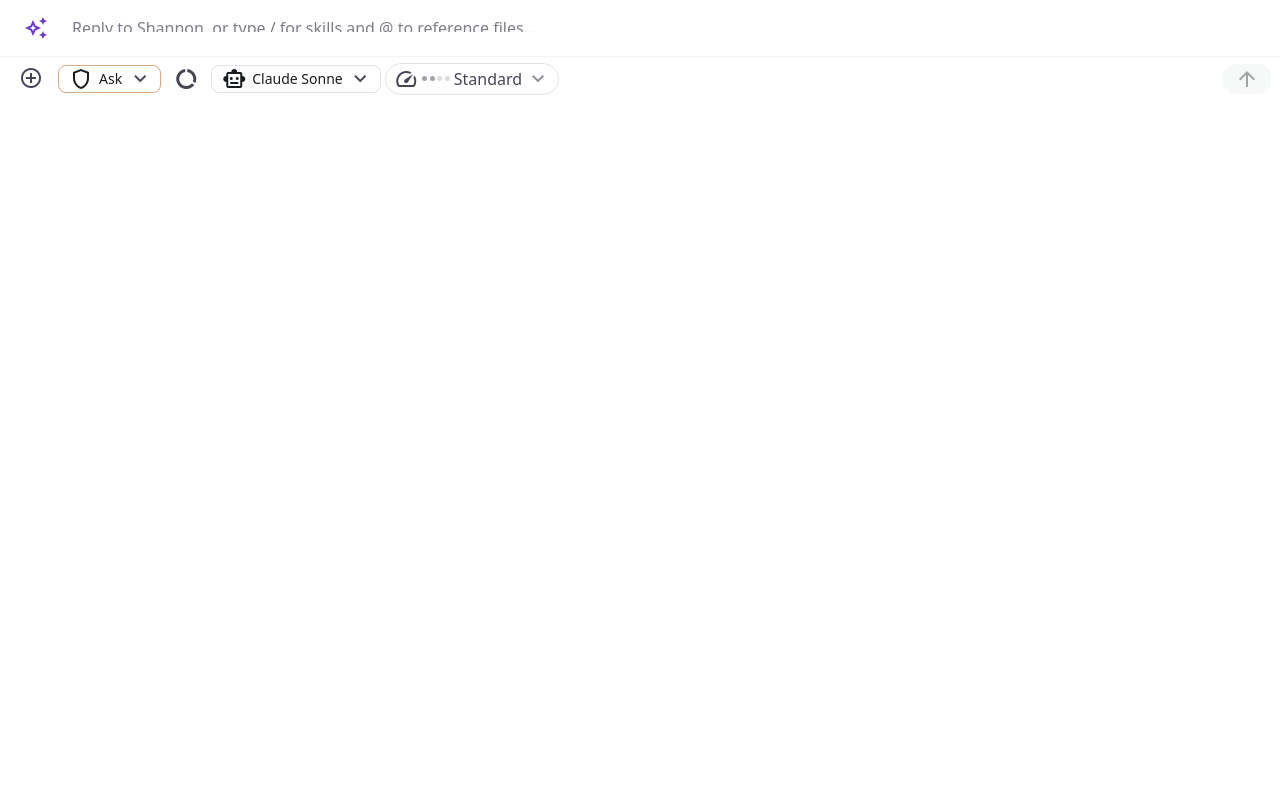
it: ChatInput — session usage entry › shows the usage button next to the model chip and opens the dialog
Click the button named "session usage" at (186, 78), box [165, 62, 207, 94]
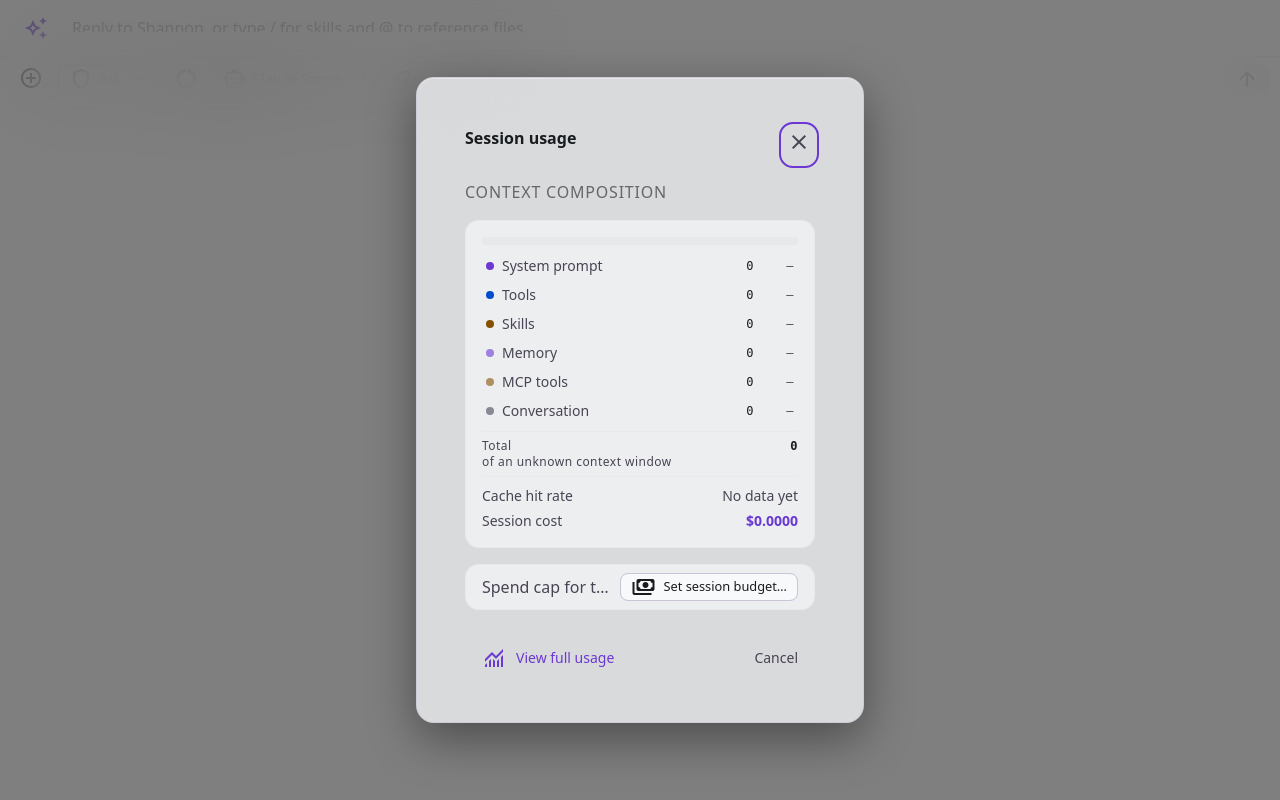
Now the heading "Session usage" is shown, box [465, 127, 576, 149]
